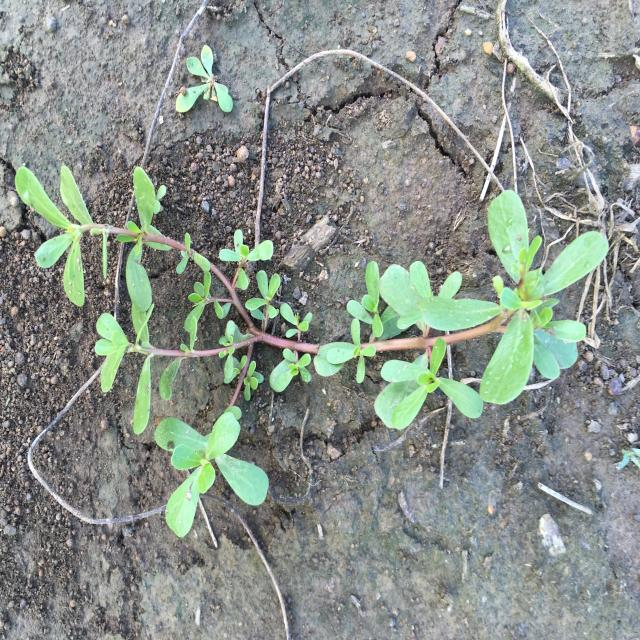Carpetweed: (176, 44, 233, 112)
Purslane: (15, 166, 610, 539)
